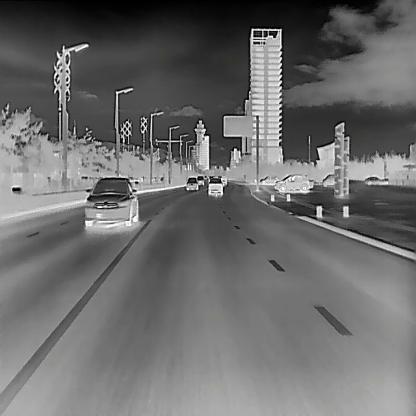car: (83, 176, 138, 227), (273, 172, 309, 194), (207, 177, 223, 196), (260, 172, 276, 184), (185, 176, 198, 190), (363, 174, 379, 184), (197, 175, 203, 185)
